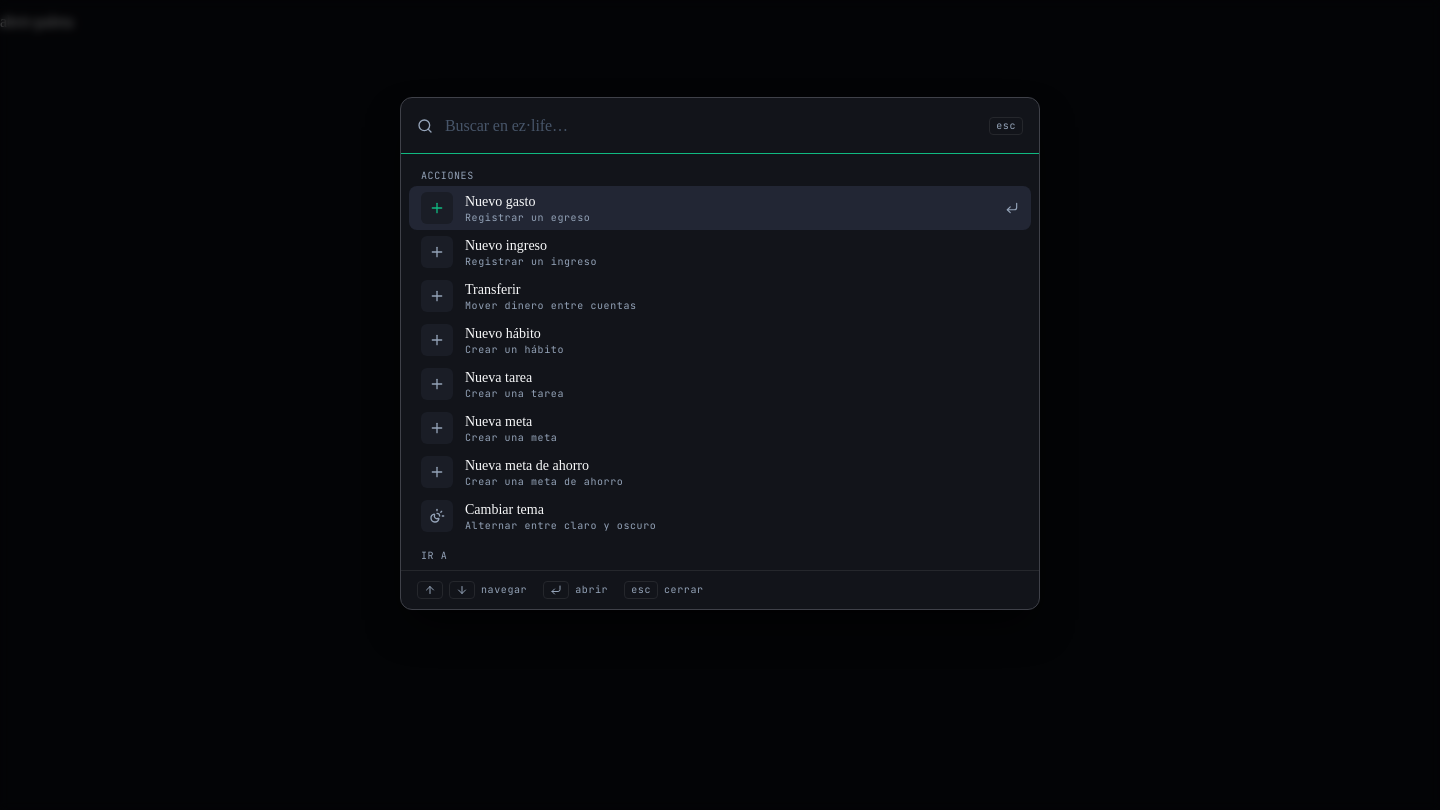
Scenario: CommandPalette › finds a movement by its amount
This screenshot has width=1440, height=810.
Expected: the dialog is shown, [400,97,1040,610]
Step 1. Type "3000" into the dropdown named "Buscar en ez-life" → (711, 126), box [445,98,977,153]
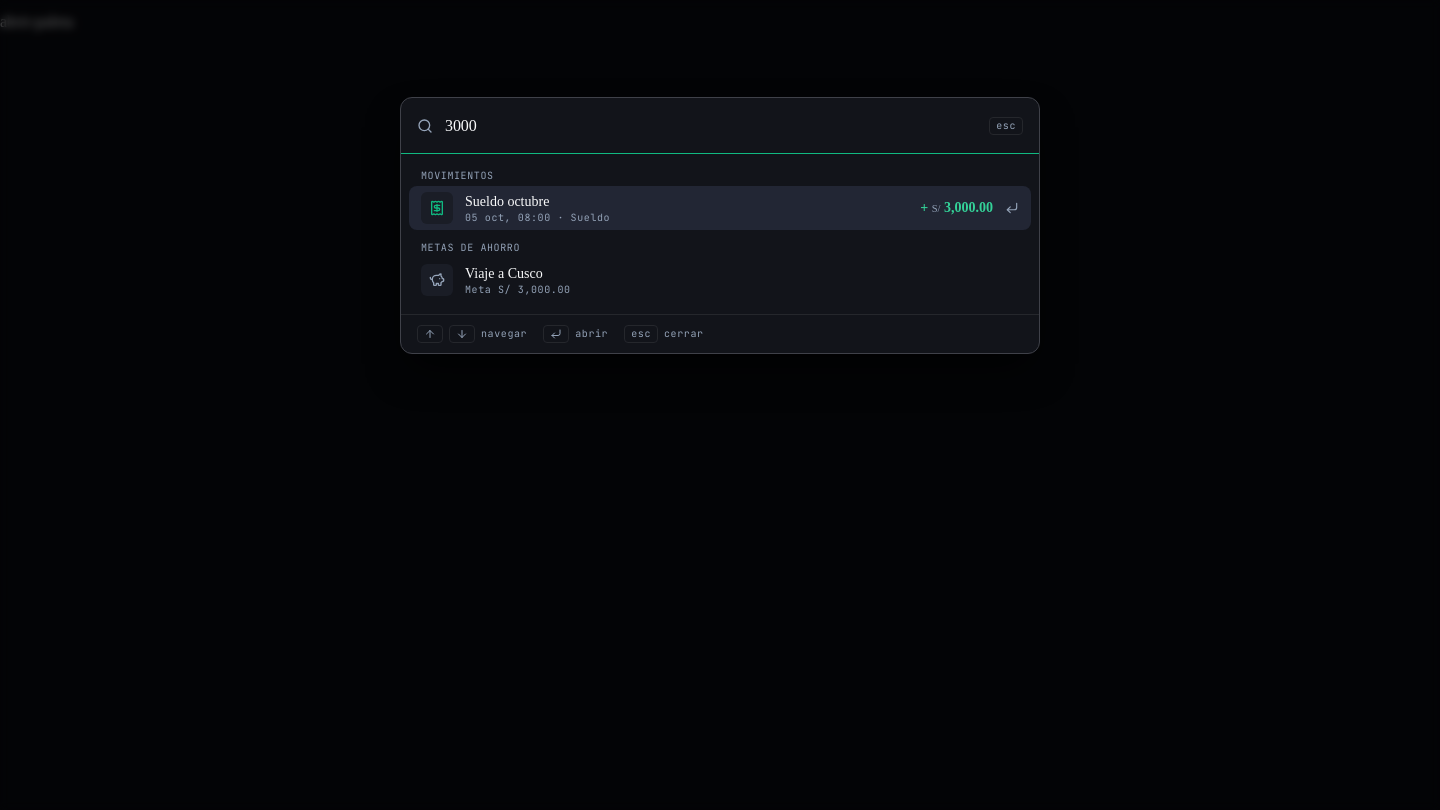
Result: the text "Sueldo octubre" is shown at [465,194,549,209]
Result: the element "Movimientos" reads "Movimientos Sueldo octubre 05 oct, 08:00 · Sueldo + S/ 3,000.00" at [409,162,1031,234]
